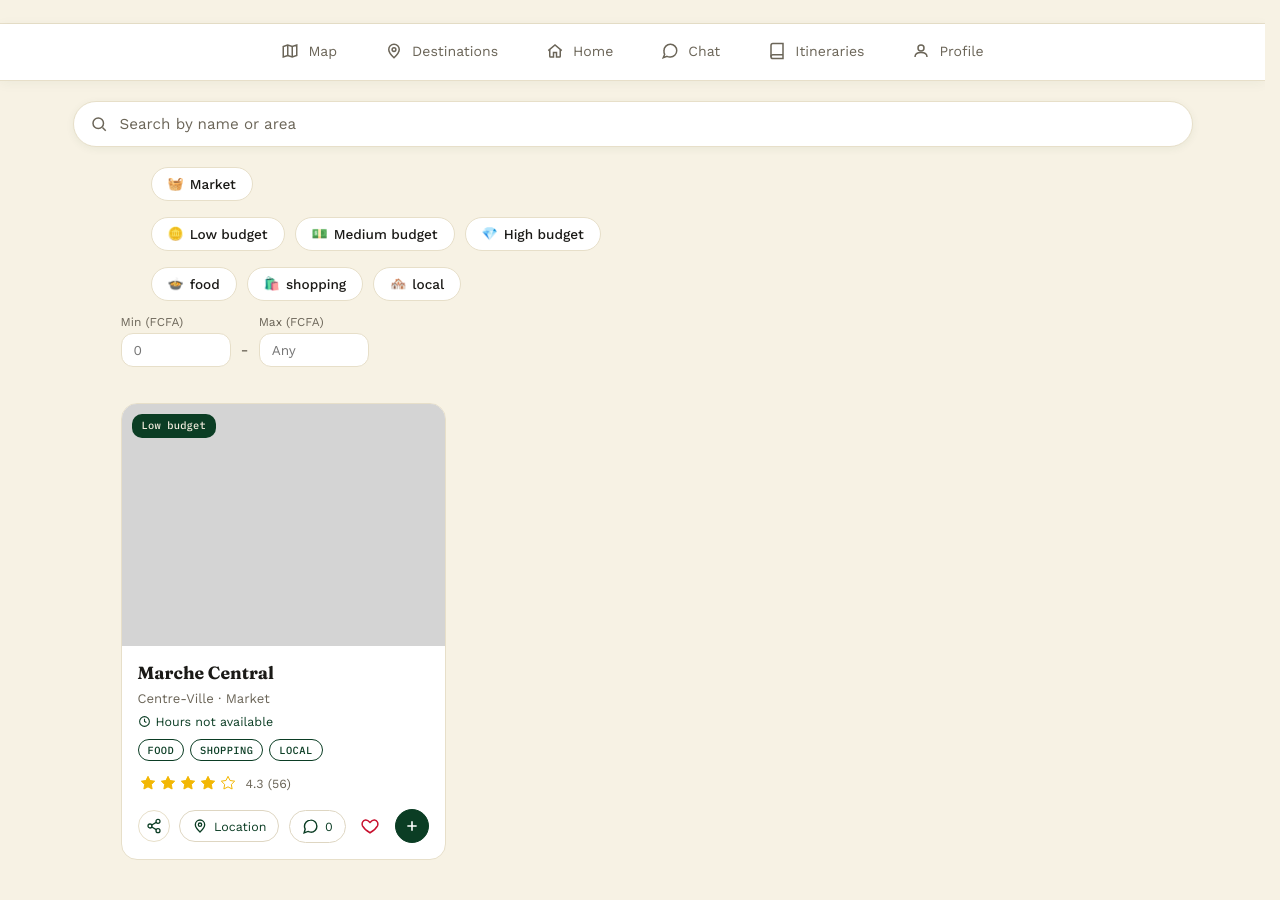
Destinations › toggles favorite when logged in
The image size is (1280, 900).
(page scrolled)
Expected: the heading "Marche Central" is shown, [138,662,274,684]
What coordinates should you click on to do the following:
click the button named "add to favorites"
I would click on:
 (370, 826)
Its box is [355,812,385,842].
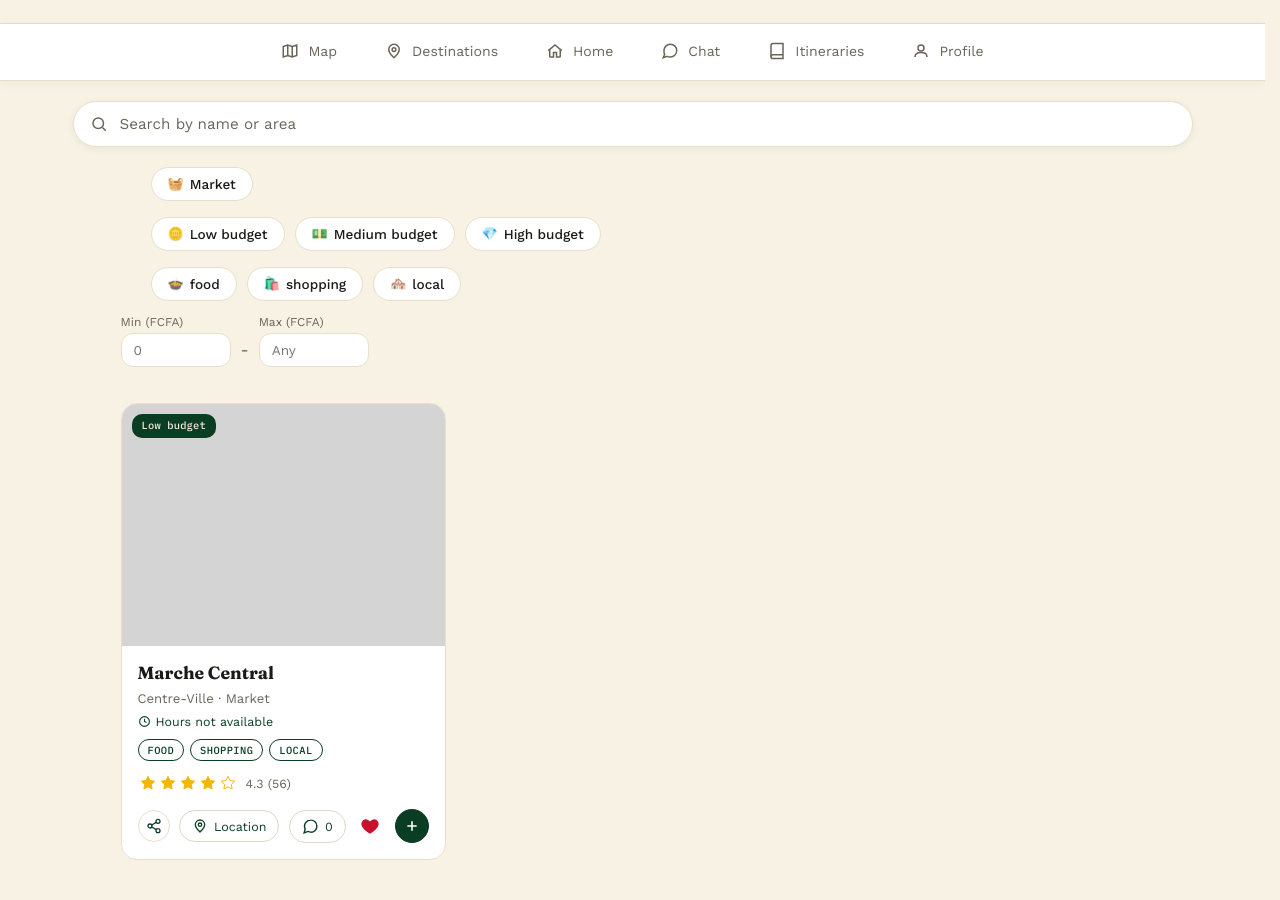
Expected: the button named "remove from favorites" is shown, [355,812,385,842]
